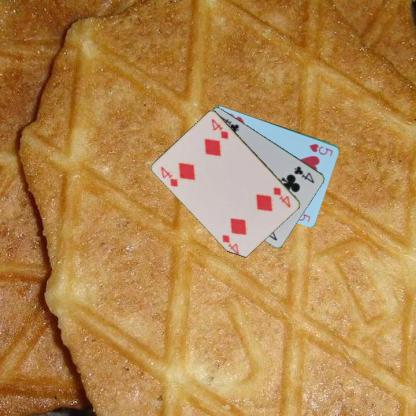4c: (292, 163, 316, 185)
4d: (158, 164, 179, 188), (271, 185, 292, 208)
5h: (307, 141, 334, 157)
